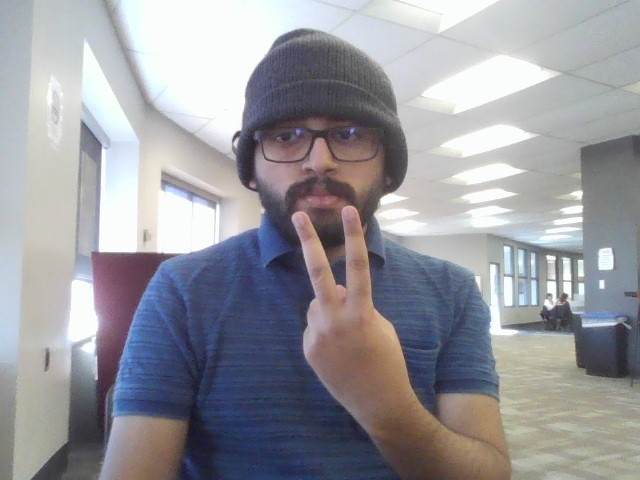start: (280, 196, 415, 427)
